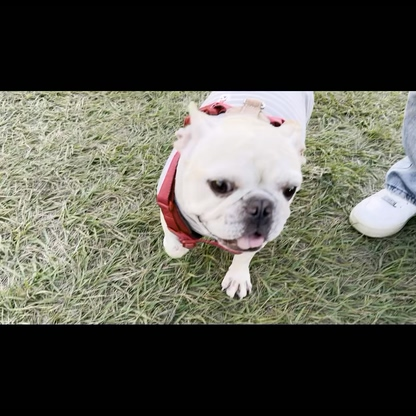bulldog: (151, 93, 316, 305)
